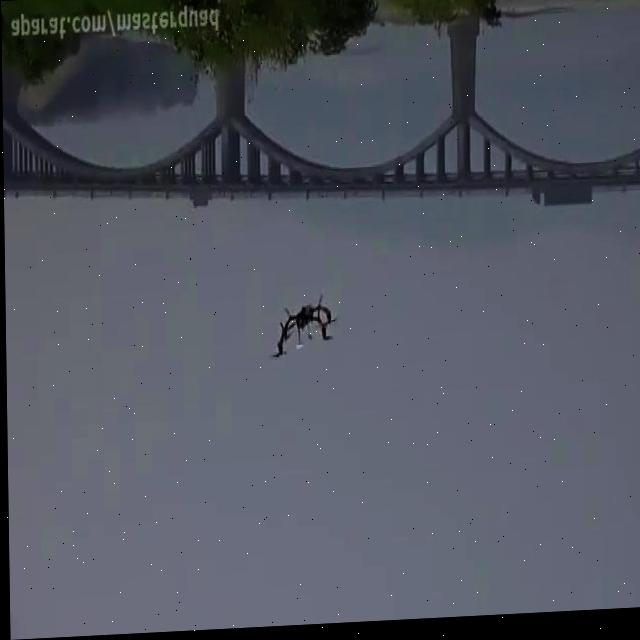drone: (262, 296, 338, 370)
